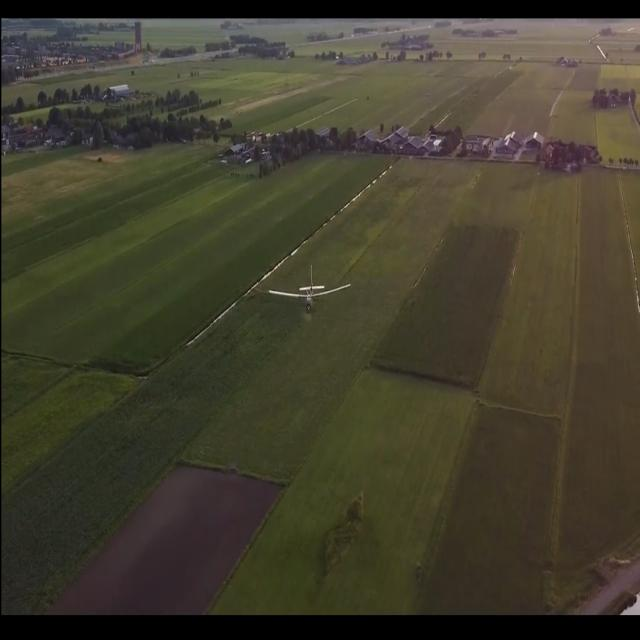iha: (296, 260, 318, 319)
